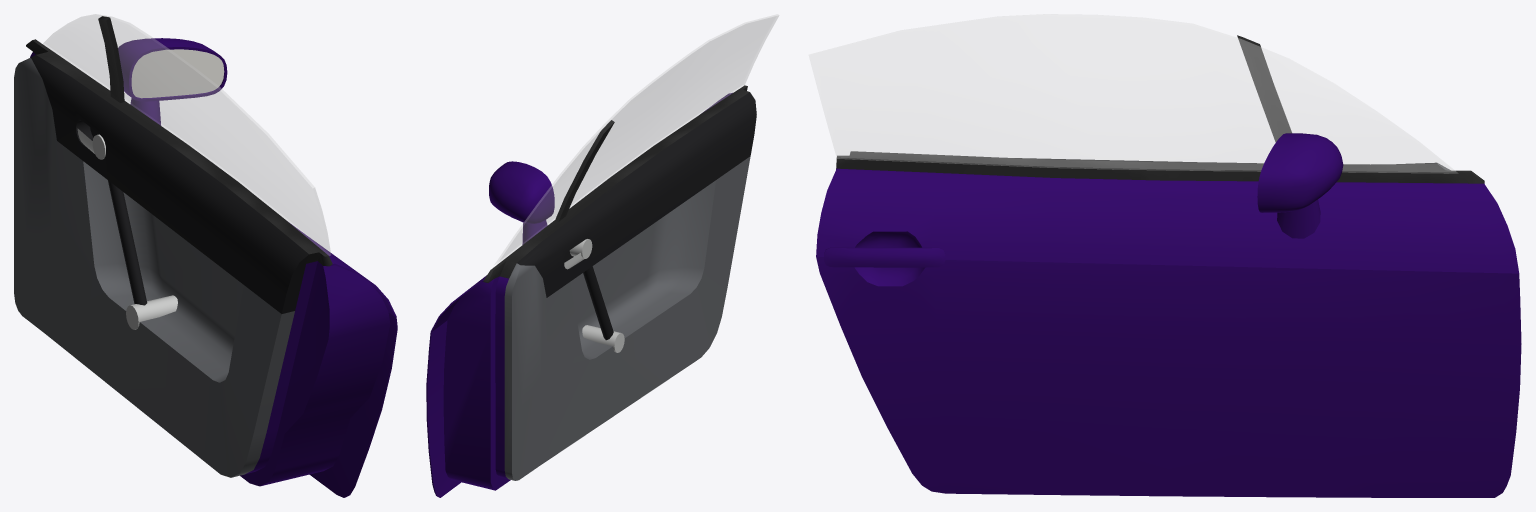
The model's file is doorr.glb.
3 renders of one model, left to right at view 1: azimuth 30°, elevation 25°; view 2: azimuth 150°, elevation 25°; view 3: azimuth 270°, elevation 25°, orthographic. The views are drawn at different scales.
Visible parts, largest first — view 1: Door R, Door window R; view 2: Door R, Door window R; view 3: Door R, Door window R.
Part boxes in pixels (<box>): Door R: <box>14,16,397,497</box>; Door window R: <box>43,14,330,255</box>; Door R: <box>426,85,756,497</box>; Door window R: <box>494,14,779,265</box>; Door R: <box>816,35,1521,497</box>; Door window R: <box>809,14,1457,173</box>.
Bounding box in the file's own units: 0.2941 × 0.8716 × 1.29.
3 materials, 2 textured.
